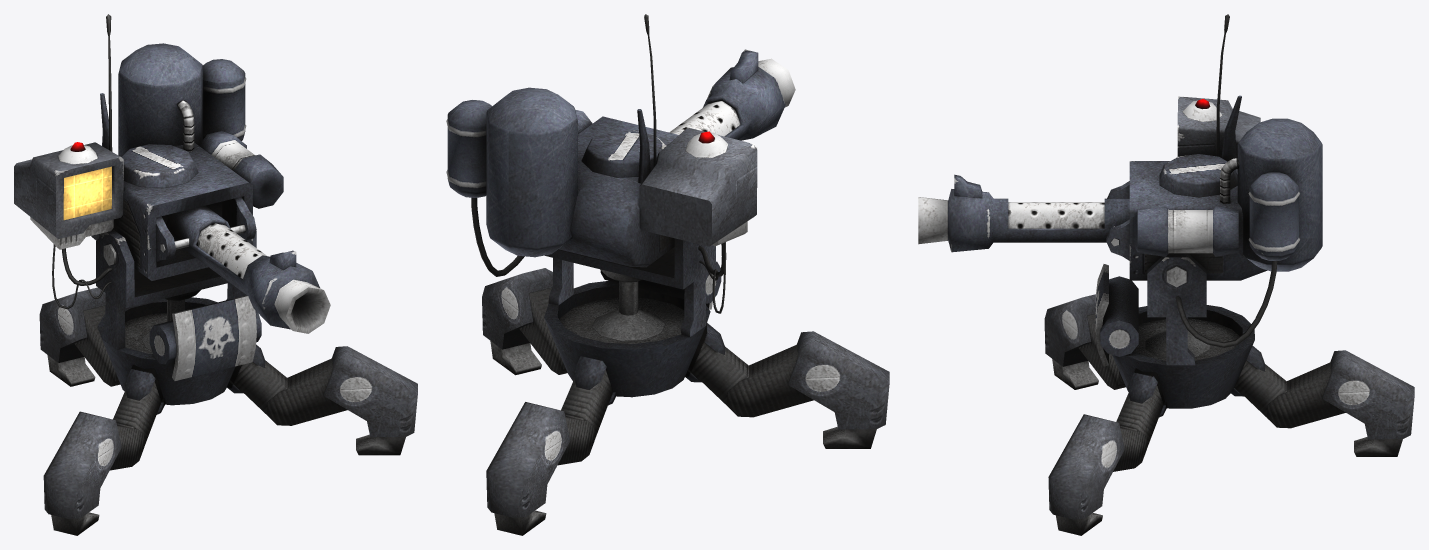
Rendered from TurretModelV2.fbx.
3 views of the same model, side by side, from view 1: azimuth 30°, elevation 25°; view 2: azimuth 150°, elevation 25°; view 3: azimuth 270°, elevation 25° (orthographic). The views are drawn at different scales.
Parts seen in each view (by area): view 1: Cannon, CannonMount, LeftLeg, RightLeg, BackLeg; view 2: Cannon, CannonMount, RightLeg, BackLeg, LeftLeg; view 3: Cannon, CannonMount, BackLeg, LeftLeg, RightLeg.
Part boxes in pixels (x1,y1,x2,y2): Cannon: (14, 14, 330, 333); CannonMount: (96, 229, 261, 405); LeftLeg: (227, 344, 417, 455); RightLeg: (43, 364, 165, 535); BackLeg: (39, 287, 120, 386); Cannon: (446, 14, 795, 313); CannonMount: (544, 238, 721, 397); RightLeg: (685, 323, 889, 448); BackLeg: (486, 356, 615, 535); LeftLeg: (482, 268, 567, 375); Cannon: (918, 14, 1322, 347); CannonMount: (1095, 253, 1254, 408); BackLeg: (1231, 345, 1414, 456); LeftLeg: (1048, 368, 1167, 535); RightLeg: (1044, 294, 1125, 389).
Bounding box in the file's own units: 438 × 480 × 516.
Materials: 1 (1 with a texture image).
